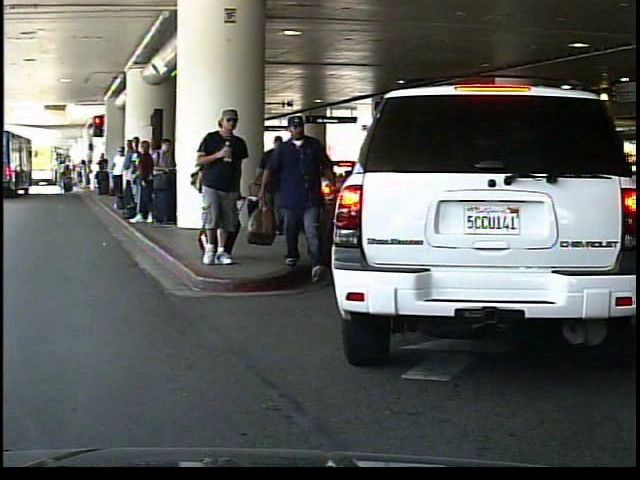person: (261, 111, 335, 283), (193, 104, 249, 267), (256, 134, 297, 238)
